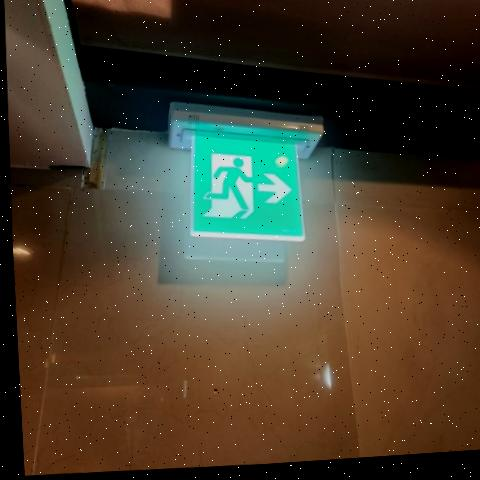emergency_exit: (189, 131, 306, 242)
